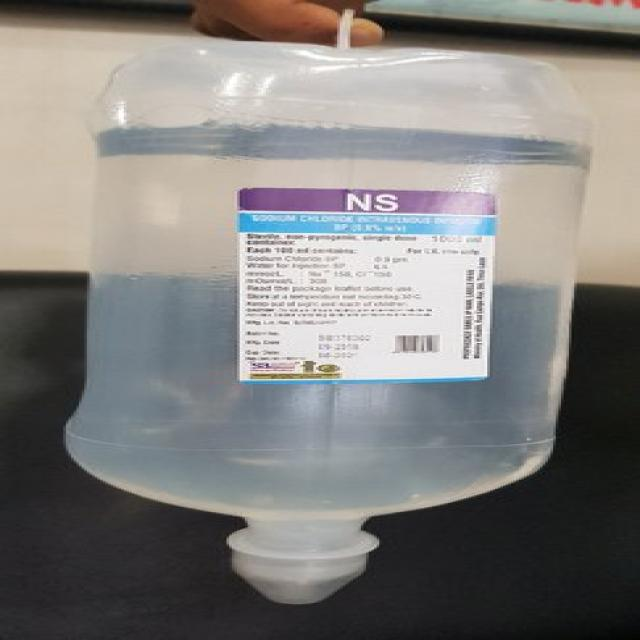B3: (42, 0, 625, 640)
